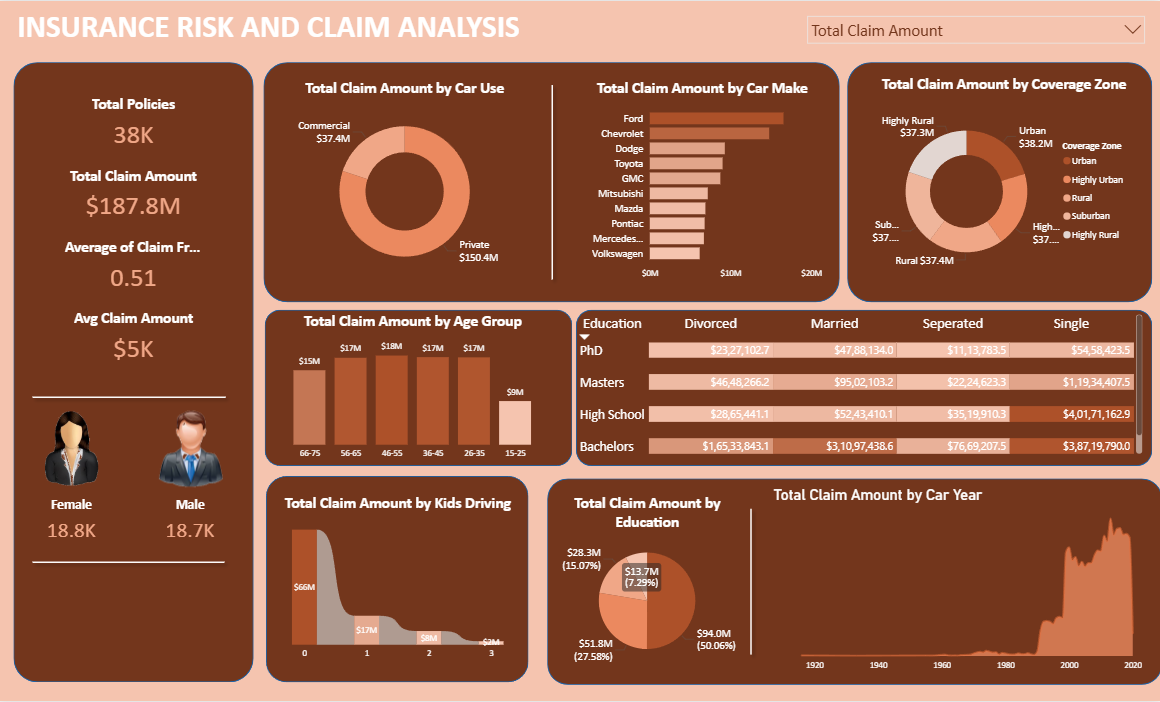

The page's visual inventory and layout, read from the dashboard file:
{"tool":"powerbi","page":{"name":"Page 1","canvas":[1600,960],"ordinal":0},"visuals":[{"type":"textbox","box":[24,3.4,852.5,65.2],"z":0},{"type":"shape","box":[24,84,329.3,850.8],"z":1000},{"type":"cardVisual","fields":{"Data":["CALCULATED MEASURE.total_policies","CALCULATED MEASURE.totaL_claim_amount","Avg(insurance_data_car.Claim Freq)","CALCULATED MEASURE.avg_claim_amount"]},"box":[53.2,84,271,459.7],"z":2000},{"type":"cardVisual","fields":{"Data":["CALCULATED MEASURE.female_count"]},"box":[8.6,651.8,190.4,118.4],"z":3000},{"type":"cardVisual","fields":{"Data":["CALCULATED MEASURE.Male"]},"box":[166.4,651.8,200.7,118.4],"z":4000},{"type":"image","box":[211,559.2,113.2,109.8],"z":5000},{"type":"image","box":[53.2,559.2,101.2,109.8],"z":6000},{"type":"slicer","fields":{"Values":["Selected measure.Selected measure"]},"box":[1102.9,10.3,483.7,49.7],"z":7000},{"type":"shape","box":[367.1,84,790.7,329.3],"z":8000},{"type":"donutChart","fields":{"Y":["CALCULATED MEASURE.Total Claim Amount"],"Category":["insurance_data_car.Car Use"]},"box":[391.1,106.3,339.6,284.7],"z":9000},{"type":"clusteredBarChart","fields":{"Y":["CALCULATED MEASURE.Total Claim Amount"],"Category":["insurance_data_car.Car Make"]},"box":[799.3,106.3,339.6,284.7],"z":10000},{"type":"shape","box":[605.5,106.3,315.6,284.7],"z":11000},{"type":"shape","box":[41.2,759.9,281.3,20.6],"z":12000},{"type":"shape","box":[41.2,531.7,283,24],"z":13000},{"type":"shape","box":[1168.1,84,418.5,329.3],"z":14000},{"type":"donutChart","fields":{"Y":["CALCULATED MEASURE.Total Claim Amount"],"Category":["insurance_data_car.Coverage Zone"]},"box":[1195.5,101.2,375.6,295],"z":15000},{"type":"shape","box":[368.8,423.7,422,214.4],"z":16000},{"type":"clusteredColumnChart","fields":{"Y":["CALCULATED MEASURE.Total Claim Amount"],"Category":["insurance_data_car.Age Group"]},"box":[380.8,425.4,382.5,212.7],"z":17000},{"type":"shape","box":[370.5,651.8,360.2,283],"z":18000},{"type":"ribbonChart","fields":{"Y":["CALCULATED MEASURE.Total Claim Amount"],"Category":["insurance_data_car.Kids Driving"]},"box":[384.2,675.8,334.5,236.7],"z":19000},{"type":"shape","box":[795.9,423.7,790.7,214.4],"z":20000},{"type":"shape","box":[756.4,655.2,843.9,283],"z":21000},{"type":"pieChart","fields":{"Y":["CALCULATED MEASURE.Total Claim Amount"],"Category":["insurance_data_car.Education"]},"box":[763.3,675.8,260.7,243.6],"z":22000},{"type":"pivotTable","fields":{"Values":["CALCULATED MEASURE.Total Claim Amount"],"Rows":["insurance_data_car.Education"],"Columns":["insurance_data_car.Marital Status"]},"box":[790.7,413.4,787.3,212.7],"z":23000},{"type":"shape","box":[879.9,687.8,312.2,217.8],"z":24000},{"type":"stackedAreaChart","fields":{"Y":["CALCULATED MEASURE.Total Claim Amount"],"Category":["insurance_data_car.Car Year"]},"box":[1061.8,665.5,516.3,262.4],"z":24001}]}

Visuals, with their boxes in screenshot pixels (x1, y1, x2, y2), scaled from the page's 1600x960 canvas onto the 1160x702 screenshot:
textbox: l=17, t=2, r=635, b=50
shape: l=17, t=61, r=256, b=684
cardVisual - CALCULATED MEASURE.total_policies x CALCULATED MEASURE.totaL_claim_amount: l=39, t=61, r=235, b=398
cardVisual - CALCULATED MEASURE.female_count: l=6, t=477, r=144, b=563
cardVisual - CALCULATED MEASURE.Male: l=121, t=477, r=266, b=563
image: l=153, t=409, r=235, b=489
image: l=39, t=409, r=112, b=489
slicer - Selected measure.Selected measure: l=800, t=8, r=1150, b=44
shape: l=266, t=61, r=839, b=302
donutChart - CALCULATED MEASURE.Total Claim Amount x insurance_data_car.Car Use: l=284, t=78, r=530, b=286
clusteredBarChart - CALCULATED MEASURE.Total Claim Amount x insurance_data_car.Car Make: l=579, t=78, r=826, b=286
shape: l=439, t=78, r=668, b=286
shape: l=30, t=556, r=234, b=571
shape: l=30, t=389, r=235, b=406
shape: l=847, t=61, r=1150, b=302
donutChart - CALCULATED MEASURE.Total Claim Amount x insurance_data_car.Coverage Zone: l=867, t=74, r=1139, b=290
shape: l=267, t=310, r=573, b=467
clusteredColumnChart - CALCULATED MEASURE.Total Claim Amount x insurance_data_car.Age Group: l=276, t=311, r=553, b=467
shape: l=269, t=477, r=530, b=684
ribbonChart - CALCULATED MEASURE.Total Claim Amount x insurance_data_car.Kids Driving: l=279, t=494, r=521, b=667
shape: l=577, t=310, r=1150, b=467
shape: l=548, t=479, r=1159, b=686
pieChart - CALCULATED MEASURE.Total Claim Amount x insurance_data_car.Education: l=553, t=494, r=742, b=672
pivotTable - CALCULATED MEASURE.Total Claim Amount x insurance_data_car.Education: l=573, t=302, r=1144, b=458
shape: l=638, t=503, r=864, b=662
stackedAreaChart - CALCULATED MEASURE.Total Claim Amount x insurance_data_car.Car Year: l=770, t=487, r=1144, b=679
